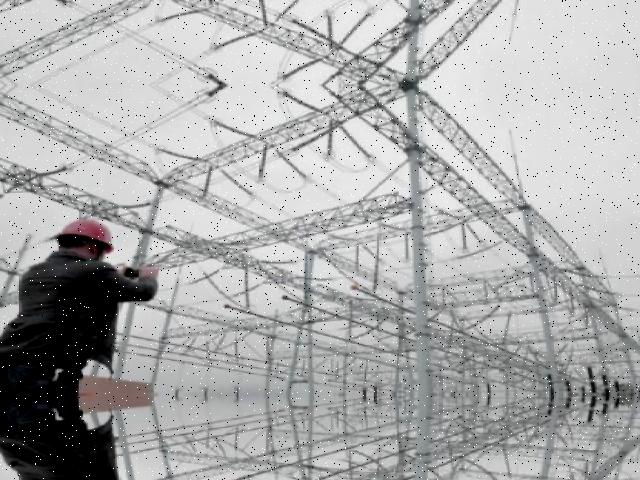Helmet: (50, 214, 120, 255)
